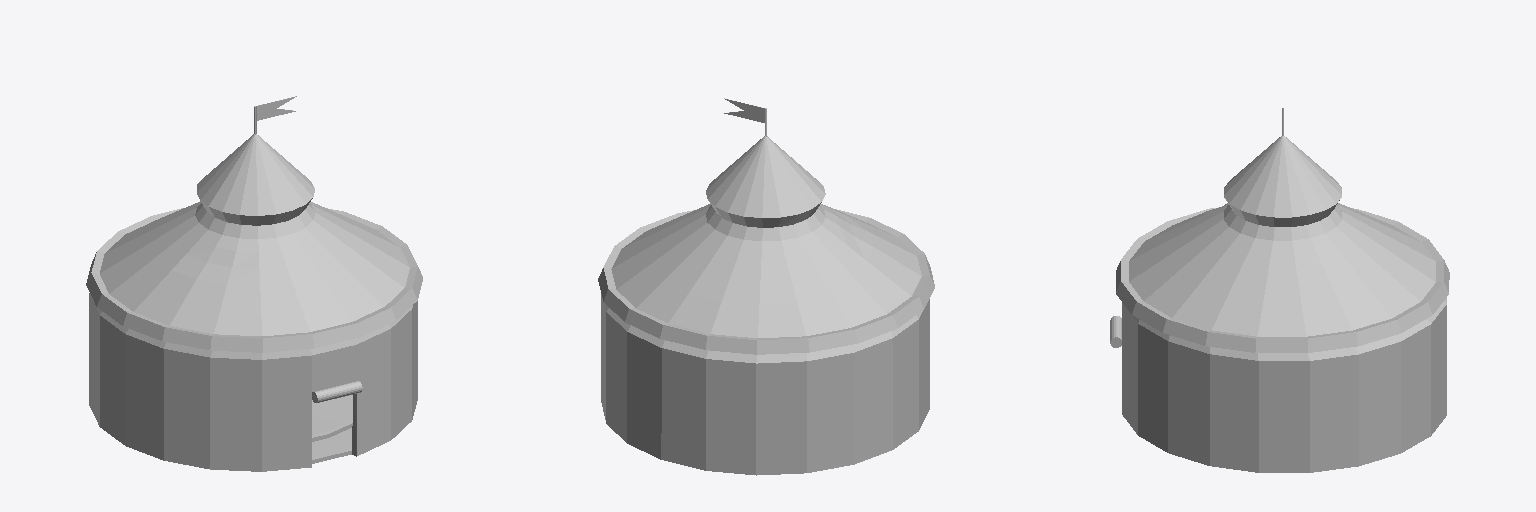
File: Tent.obj
3 views of the same model, side by side, from view 1: azimuth 30°, elevation 25°; view 2: azimuth 150°, elevation 25°; view 3: azimuth 270°, elevation 25° (orthographic).
Visible parts, largest first — view 1: polySurface21; view 2: polySurface21; view 3: polySurface21.
Part boxes in pixels (x1,y1,x2,y2): polySurface21: (86, 96, 422, 471); polySurface21: (598, 98, 934, 475); polySurface21: (1110, 108, 1449, 472).
Size of the model in its own units: 2132 by 2090 by 2165.